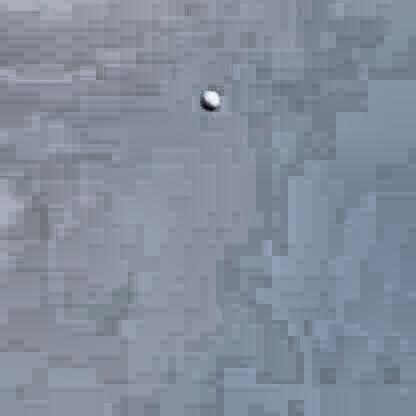golfball: (195, 88, 219, 110)
